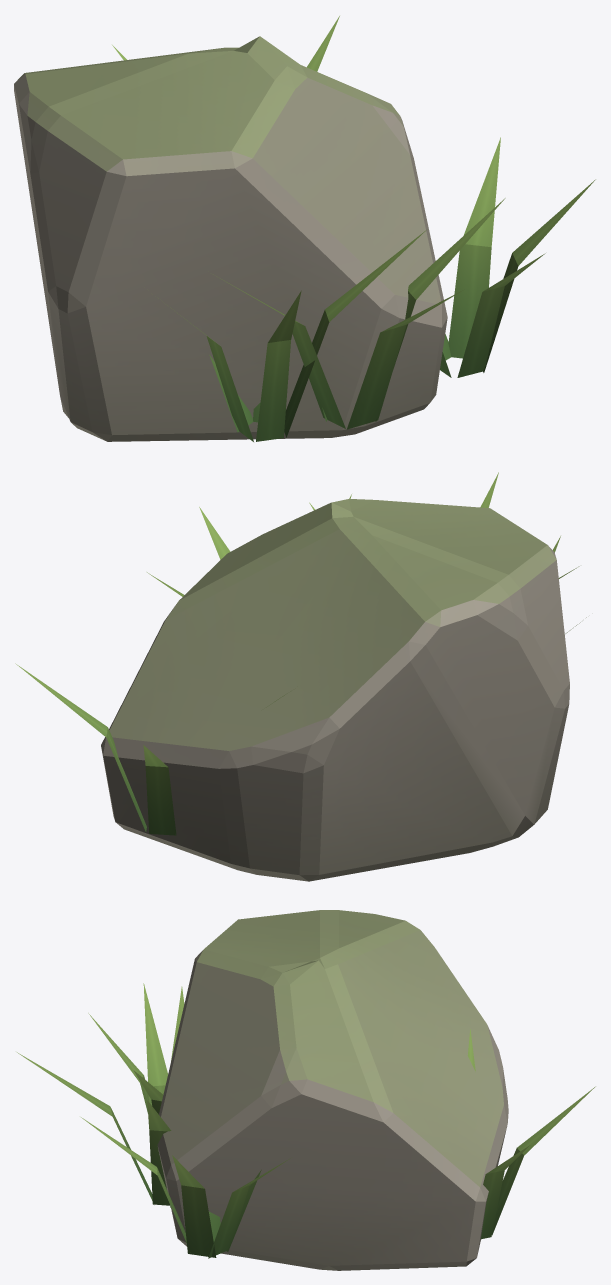
The model's file is boulder_1.glb.
3 views of the same model, one above another, from view 1: azimuth 30°, elevation 25°; view 2: azimuth 150°, elevation 25°; view 3: azimuth 270°, elevation 25° (orthographic). The views are drawn at different scales.
Visible parts, largest first — view 1: boulder_1_rock, boulder_1_weeds; view 2: boulder_1_rock, boulder_1_weeds; view 3: boulder_1_rock, boulder_1_weeds.
Boxes of the visible parts, x1,y1,x2,y2 form: boulder_1_rock: (14,36,447,441); boulder_1_weeds: (112,16,595,441); boulder_1_rock: (101,499,569,881); boulder_1_weeds: (15,472,586,835); boulder_1_rock: (157,910,508,1270); boulder_1_weeds: (17,983,595,1258).
Bounding box in the file's own units: 0.7954 × 0.5779 × 1.09.
2 materials, 2 textured.
